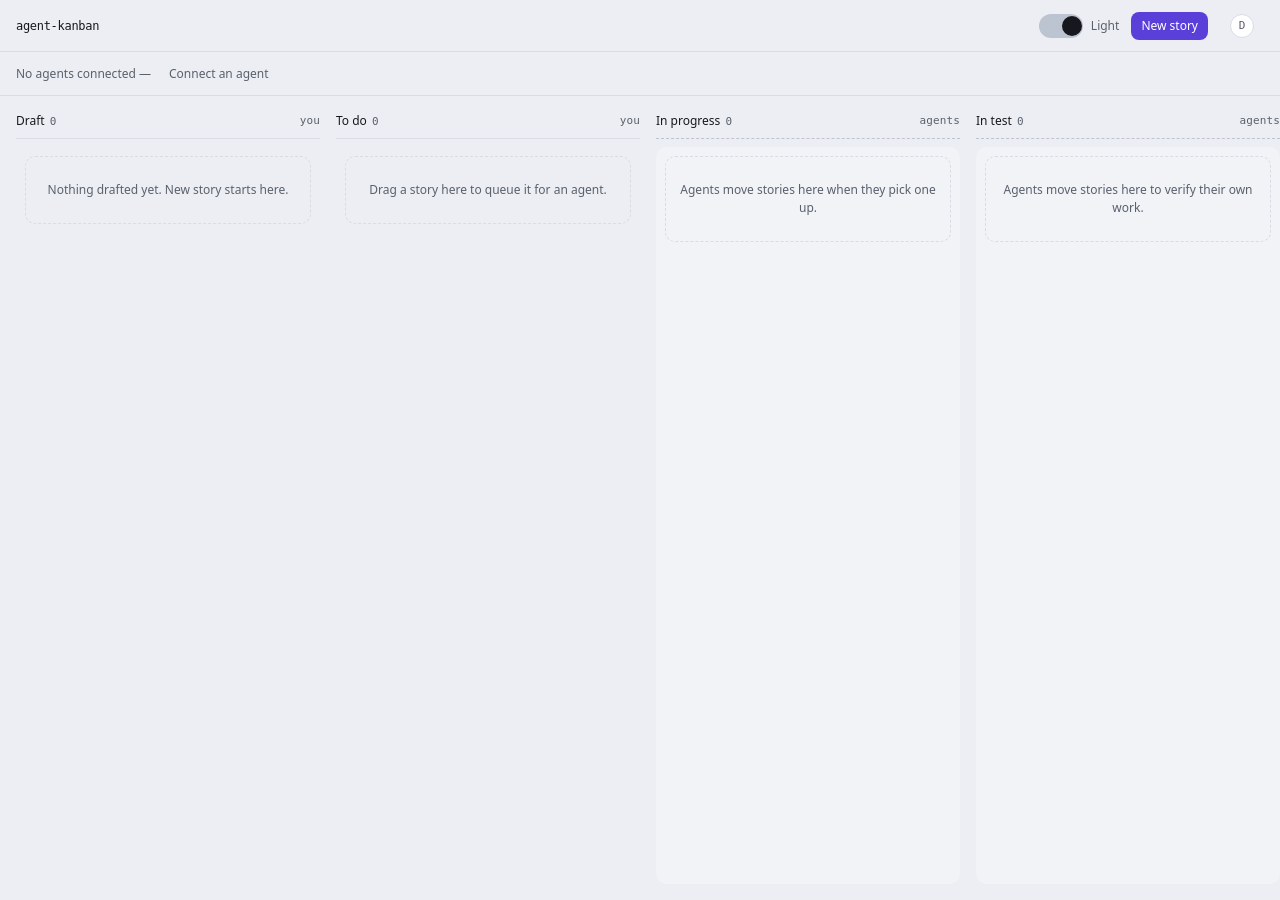
Test case: BoardScreen — story dialogs › opens the create dialog from "New story"
Check: the heading "Draft 0" is shown, box [16,112,56,130]
Click the button "New story" at (1170, 26), box [1131,12,1208,40]
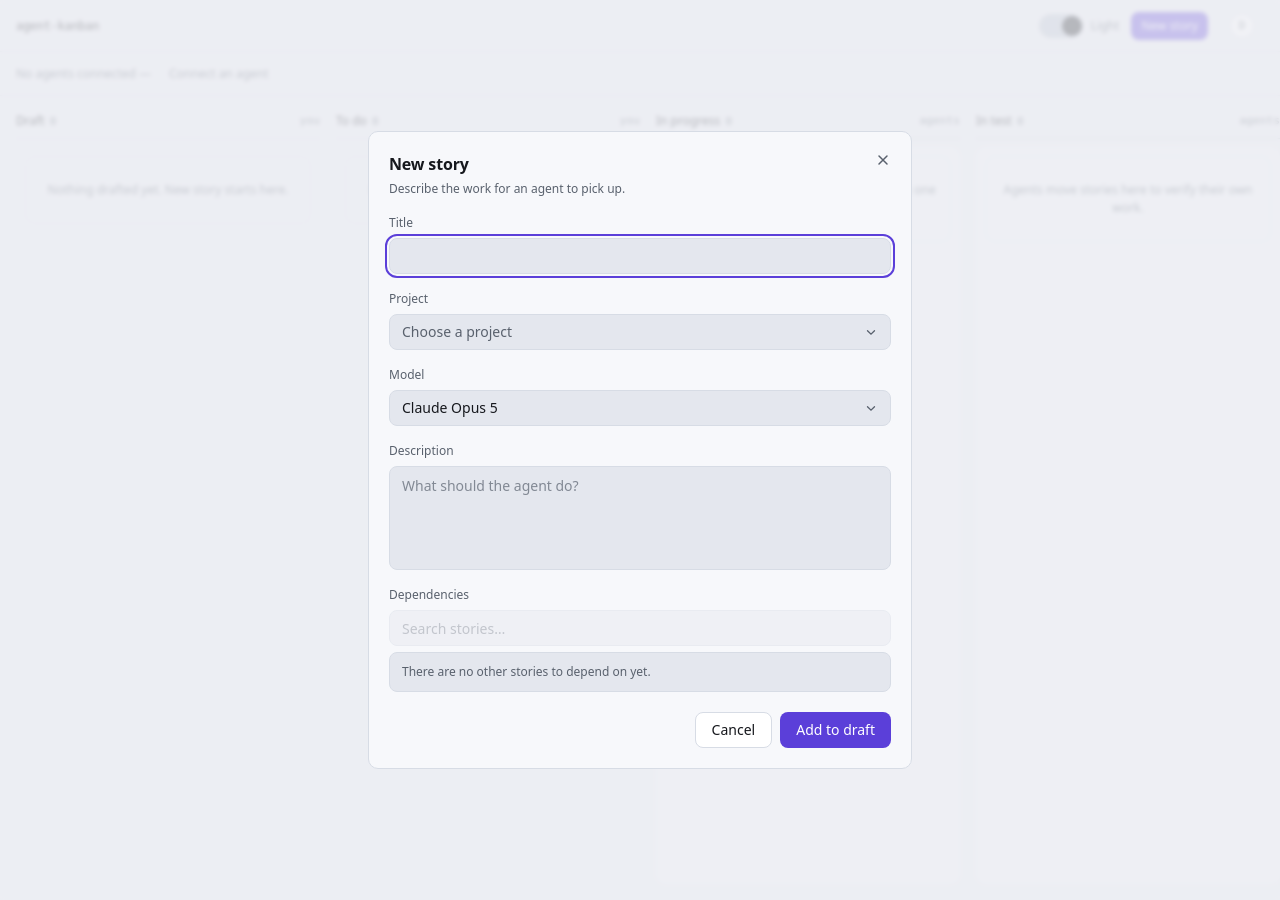
Check: the dialog "New story" is shown, box [368,131,912,769]
Check: the button "Add to draft" is shown, box [780,712,891,748]
